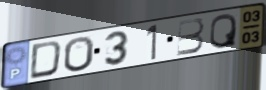1: (146, 23, 158, 61)
3: (103, 29, 130, 68)
B: (176, 16, 206, 57)
D: (28, 39, 65, 81)
O: (63, 35, 96, 74)
Q: (208, 12, 238, 50)
